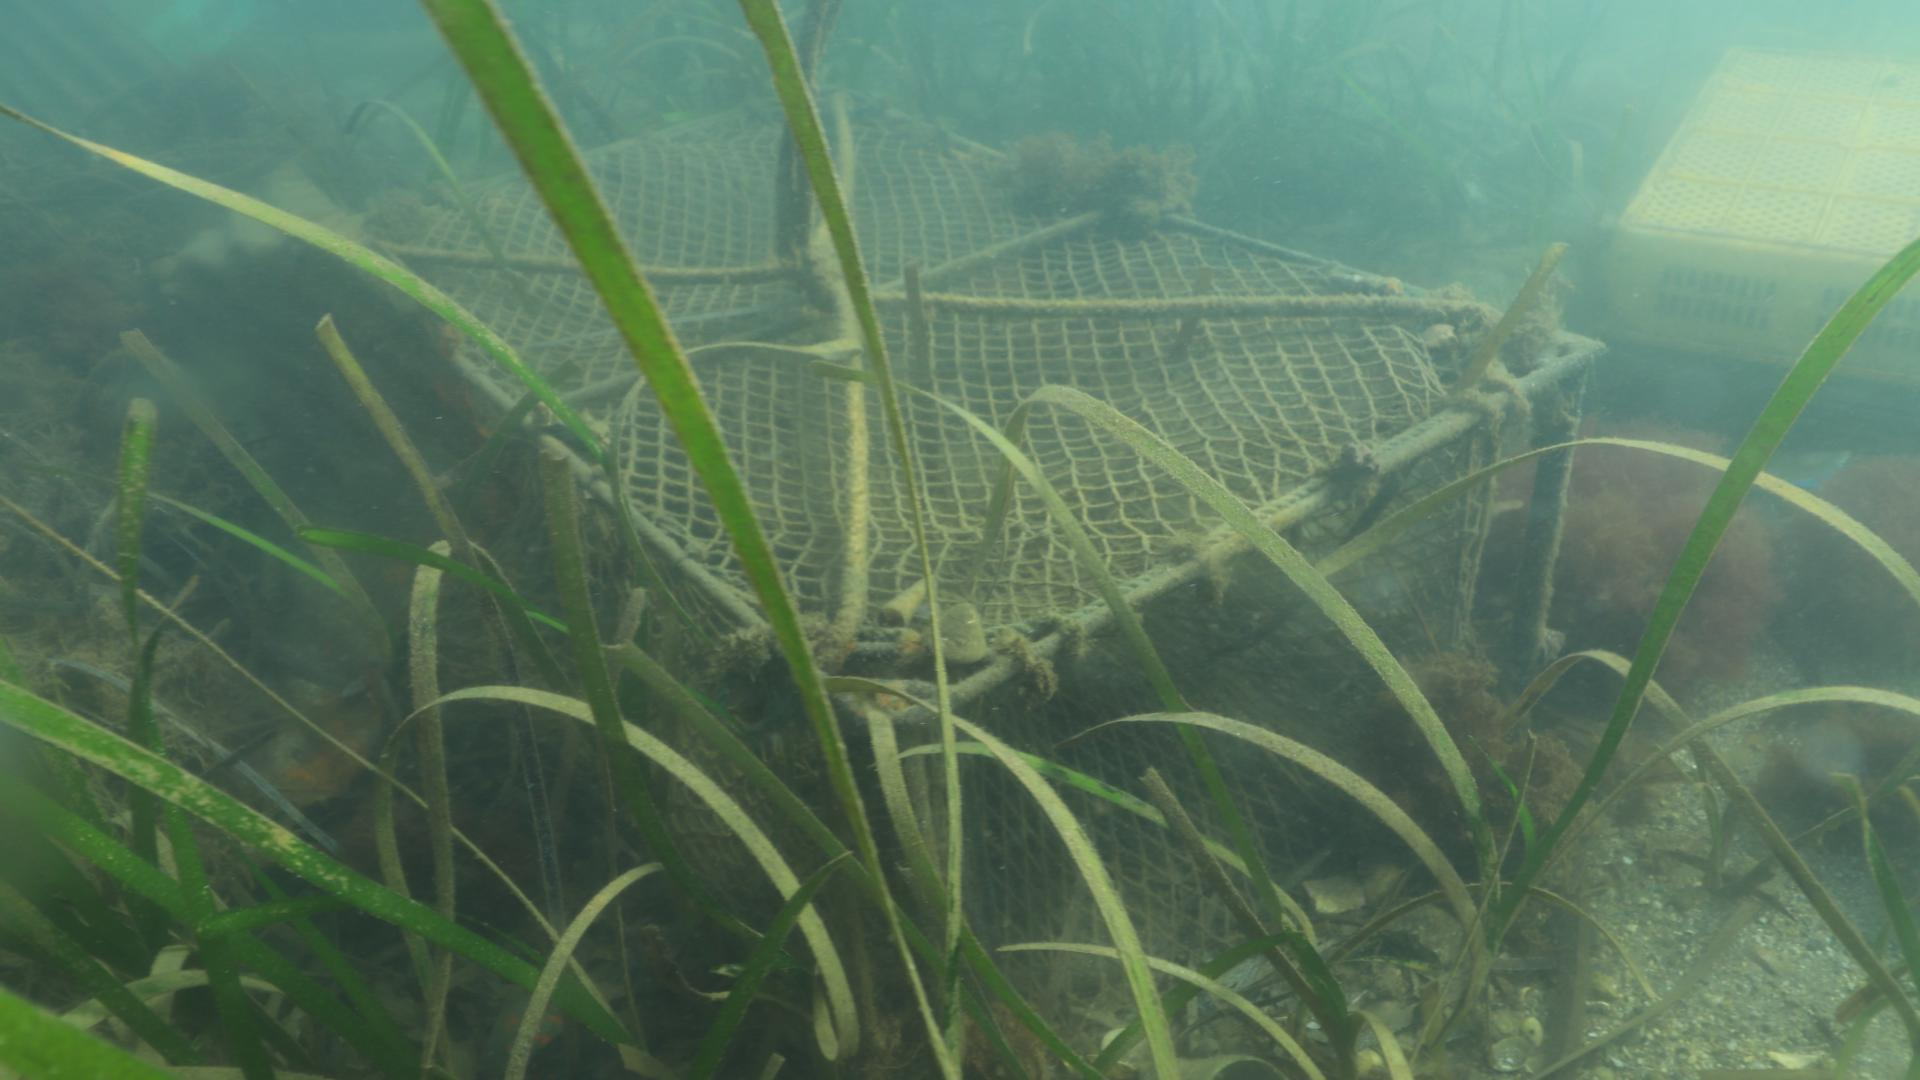rectangular fish trap: (342, 78, 1609, 1048)
